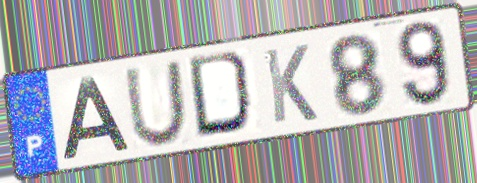8: (327, 30, 392, 119)
9: (396, 18, 453, 109)
A: (59, 74, 133, 164)
D: (185, 48, 261, 141)
K: (261, 42, 321, 127)
U: (121, 57, 189, 150)
